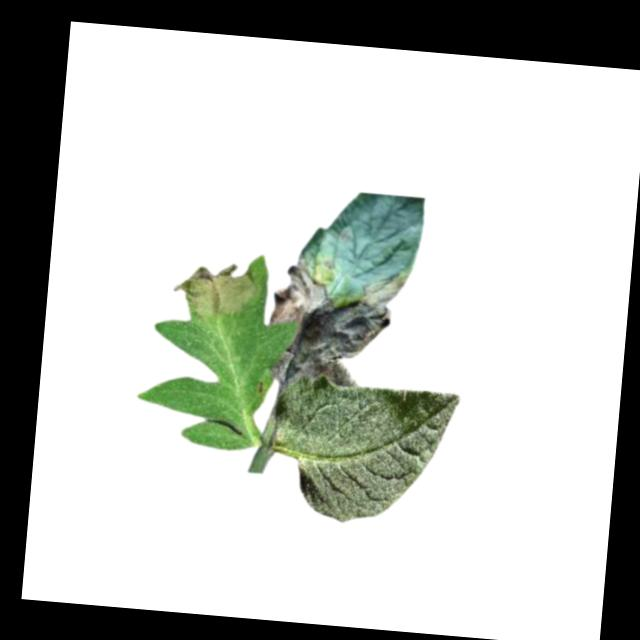Late_blight: (267, 250, 410, 392), (167, 255, 261, 326)
